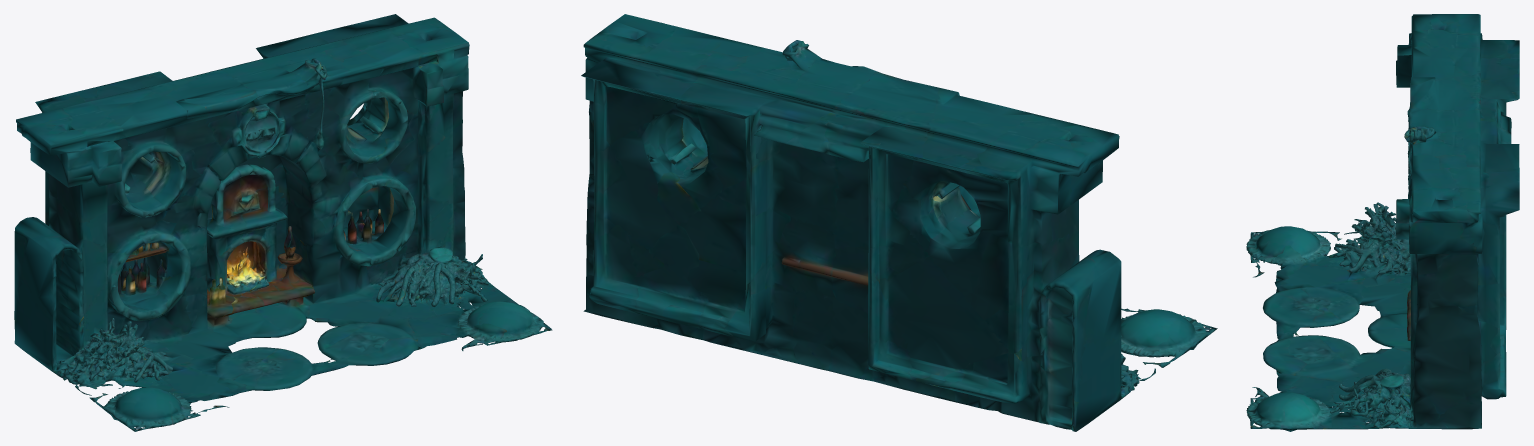
Rendered from sunken-tavern.glb.
3 views of the same model, side by side, from view 1: azimuth 30°, elevation 25°; view 2: azimuth 150°, elevation 25°; view 3: azimuth 270°, elevation 25° (orthographic). The views are drawn at different scales.
Bounding box in the file's own units: 1.9 × 1.06 × 1.11.
1 material, 1 textured.
